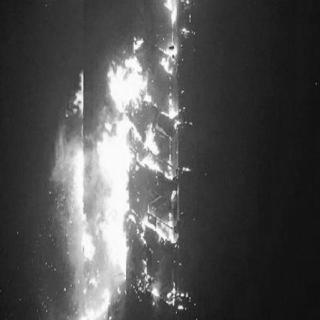Fire: (64, 0, 198, 318)
